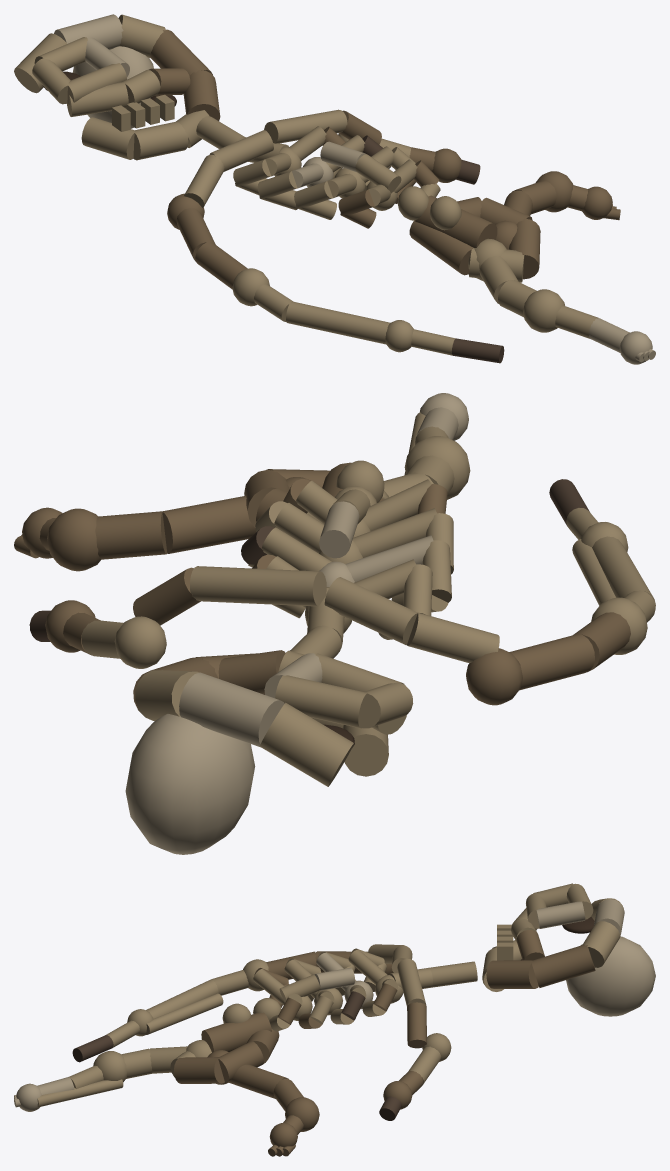
File: CMU3DDecorFloorSkeletonOver.glb
The picture shows the model from 3 angles, top to bottom: view 1: azimuth 30°, elevation 25°; view 2: azimuth 150°, elevation 25°; view 3: azimuth 270°, elevation 25°; orthographic projection. The views are drawn at different scales.
Visible parts, largest first — view 1: left forearm segment 2, right clavicle segment 1, pelvic rim segment 5, lower jaw segment 2, lower jaw segment 1, sacrum segment 1, cranial rim segment 4, cranial rim segment 2, left thigh joint 2, cheek and nasal bridge segment 1, cranial rim segment 5, left clavicle segment 1 (+45 smaller); view 2: posterior cranium, right clavicle segment 1, cranial rim segment 2, cranial rim segment 1, right thigh segment 1, left clavicle segment 1, orbital rim segment 1, right thigh segment 2, left upper arm segment 1, left clavicle segment 2, right thigh joint 2, left upper arm joint 1 (+40 smaller); view 3: posterior cranium, cranial rim segment 4, sacrum segment 1, cranial rim segment 5, pelvic rim segment 3, cranial rim segment 3, right thigh segment 1, left ulna, left forearm segment 2, pelvic rim segment 2, orbital rim segment 2, left fibula (+34 smaller).
Boxes of the visible parts, <box> form: left forearm segment 2: <box>286,301,390,344</box>; right clavicle segment 1: <box>264,109,347,143</box>; pelvic rim segment 5: <box>409,220,473,275</box>; lower jaw segment 2: <box>133,121,188,160</box>; lower jaw segment 1: <box>81,117,134,159</box>; sacrum segment 1: <box>415,195,497,247</box>; cranial rim segment 4: <box>150,29,212,75</box>; cranial rim segment 2: <box>54,14,123,49</box>; left thigh joint 2: <box>523,289,564,332</box>; cheek and nasal bridge segment 1: <box>67,82,128,116</box>; cranial rim segment 5: <box>183,70,220,120</box>; left clavicle segment 1: <box>209,130,273,171</box>; posterior cranium: <box>125,714,255,854</box>; right clavicle segment 1: <box>190,566,326,606</box>; cranial rim segment 2: <box>179,672,284,747</box>; cranial rim segment 1: <box>260,702,353,786</box>; right thigh segment 1: <box>161,495,256,553</box>; left clavicle segment 1: <box>324,577,418,645</box>; orbital rim segment 1: <box>275,675,366,728</box>; right thigh segment 2: <box>95,511,167,559</box>; left upper arm segment 1: <box>509,634,594,690</box>; left clavicle segment 2: <box>407,612,499,663</box>; right thigh joint 2: <box>47,508,101,571</box>; left upper arm joint 1: <box>466,648,522,705</box>; posterior cranium: <box>566,936,655,1016</box>; cranial rim segment 4: <box>531,945,595,987</box>; sacrum segment 1: <box>201,1012,271,1052</box>; cranial rim segment 5: <box>486,960,538,988</box>; pelvic rim segment 3: <box>174,1057,224,1083</box>; cranial rim segment 3: <box>582,921,619,967</box>; right thigh segment 1: <box>227,1064,288,1098</box>; left ulna: <box>145,993,223,1034</box>; left forearm segment 2: <box>146,979,218,1018</box>; pelvic rim segment 2: <box>218,1041,263,1082</box>; orbital rim segment 2: <box>536,901,585,928</box>; left fibula: <box>37,1079,123,1107</box>.
Bounding box in the file's own units: 0.5488 × 0.1796 × 0.8795.
